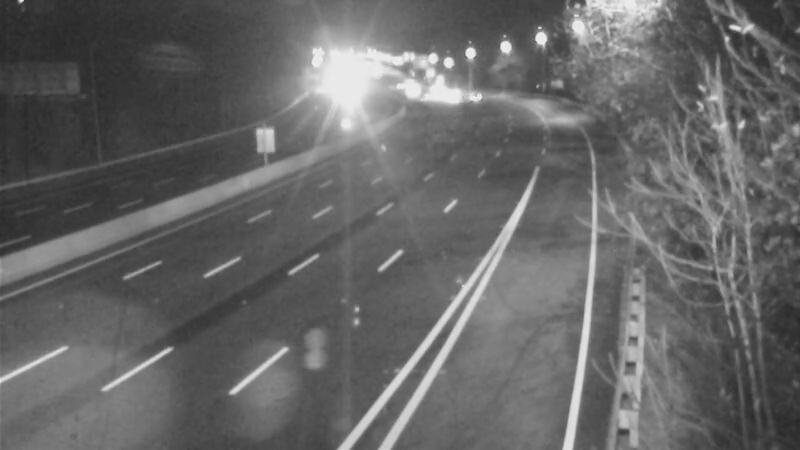vehicle: (387, 67, 437, 117), (418, 68, 468, 118), (430, 71, 480, 121), (452, 72, 502, 122)
